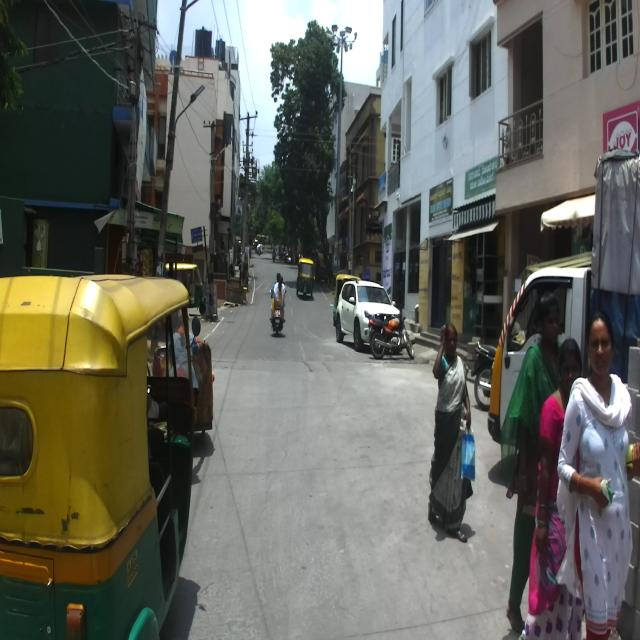auto ahead at: (0, 251, 203, 640)
person ahead at: (420, 313, 480, 541)
